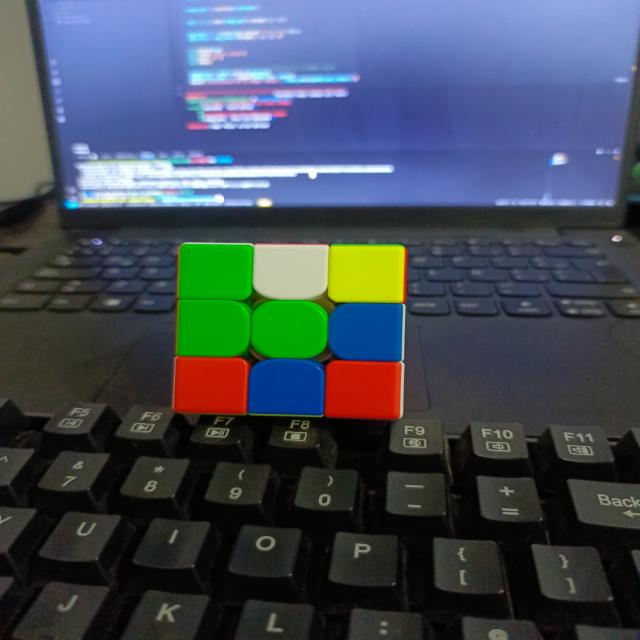rubik: (171, 241, 408, 420)
